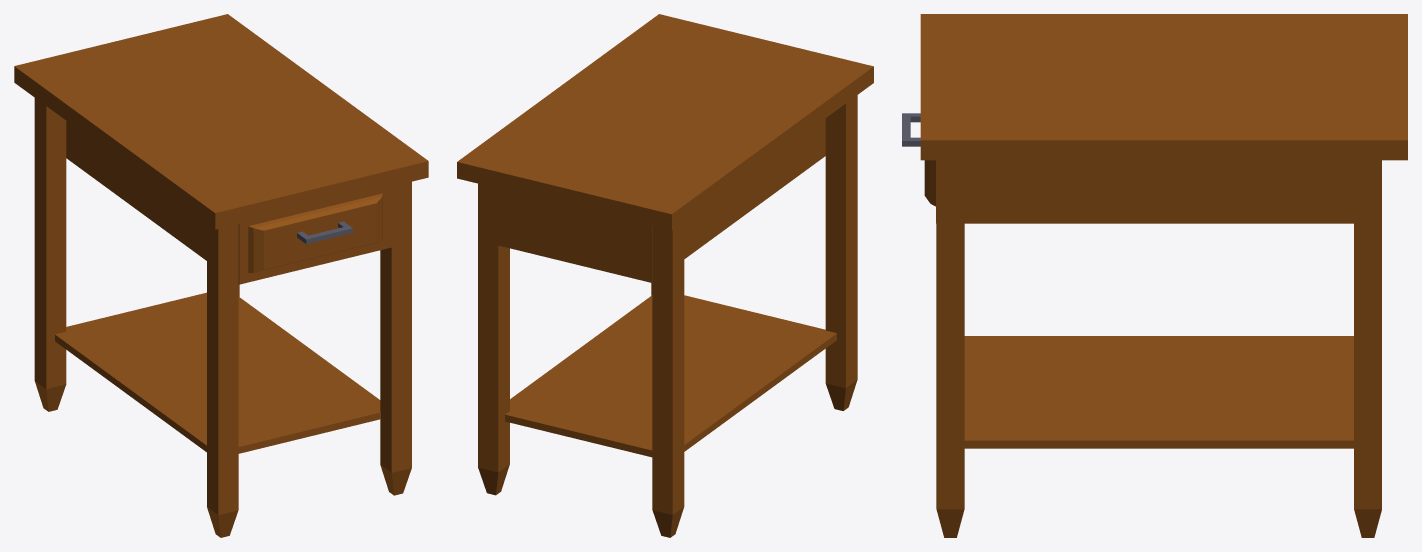
Rendered from end_table.glb.
3 views of the same model, side by side, from view 1: azimuth 30°, elevation 25°; view 2: azimuth 150°, elevation 25°; view 3: azimuth 270°, elevation 25° (orthographic). The views are drawn at different scales.
Parts seen in each view (by area): view 1: End Table; view 2: End Table; view 3: End Table.
Boxes of the visible parts, <box> form: End Table: <box>14,14,428,537</box>; End Table: <box>457,14,873,537</box>; End Table: <box>902,14,1407,537</box>.
Size of the model in its own units: 0.9463 by 1.42 by 1.6.
